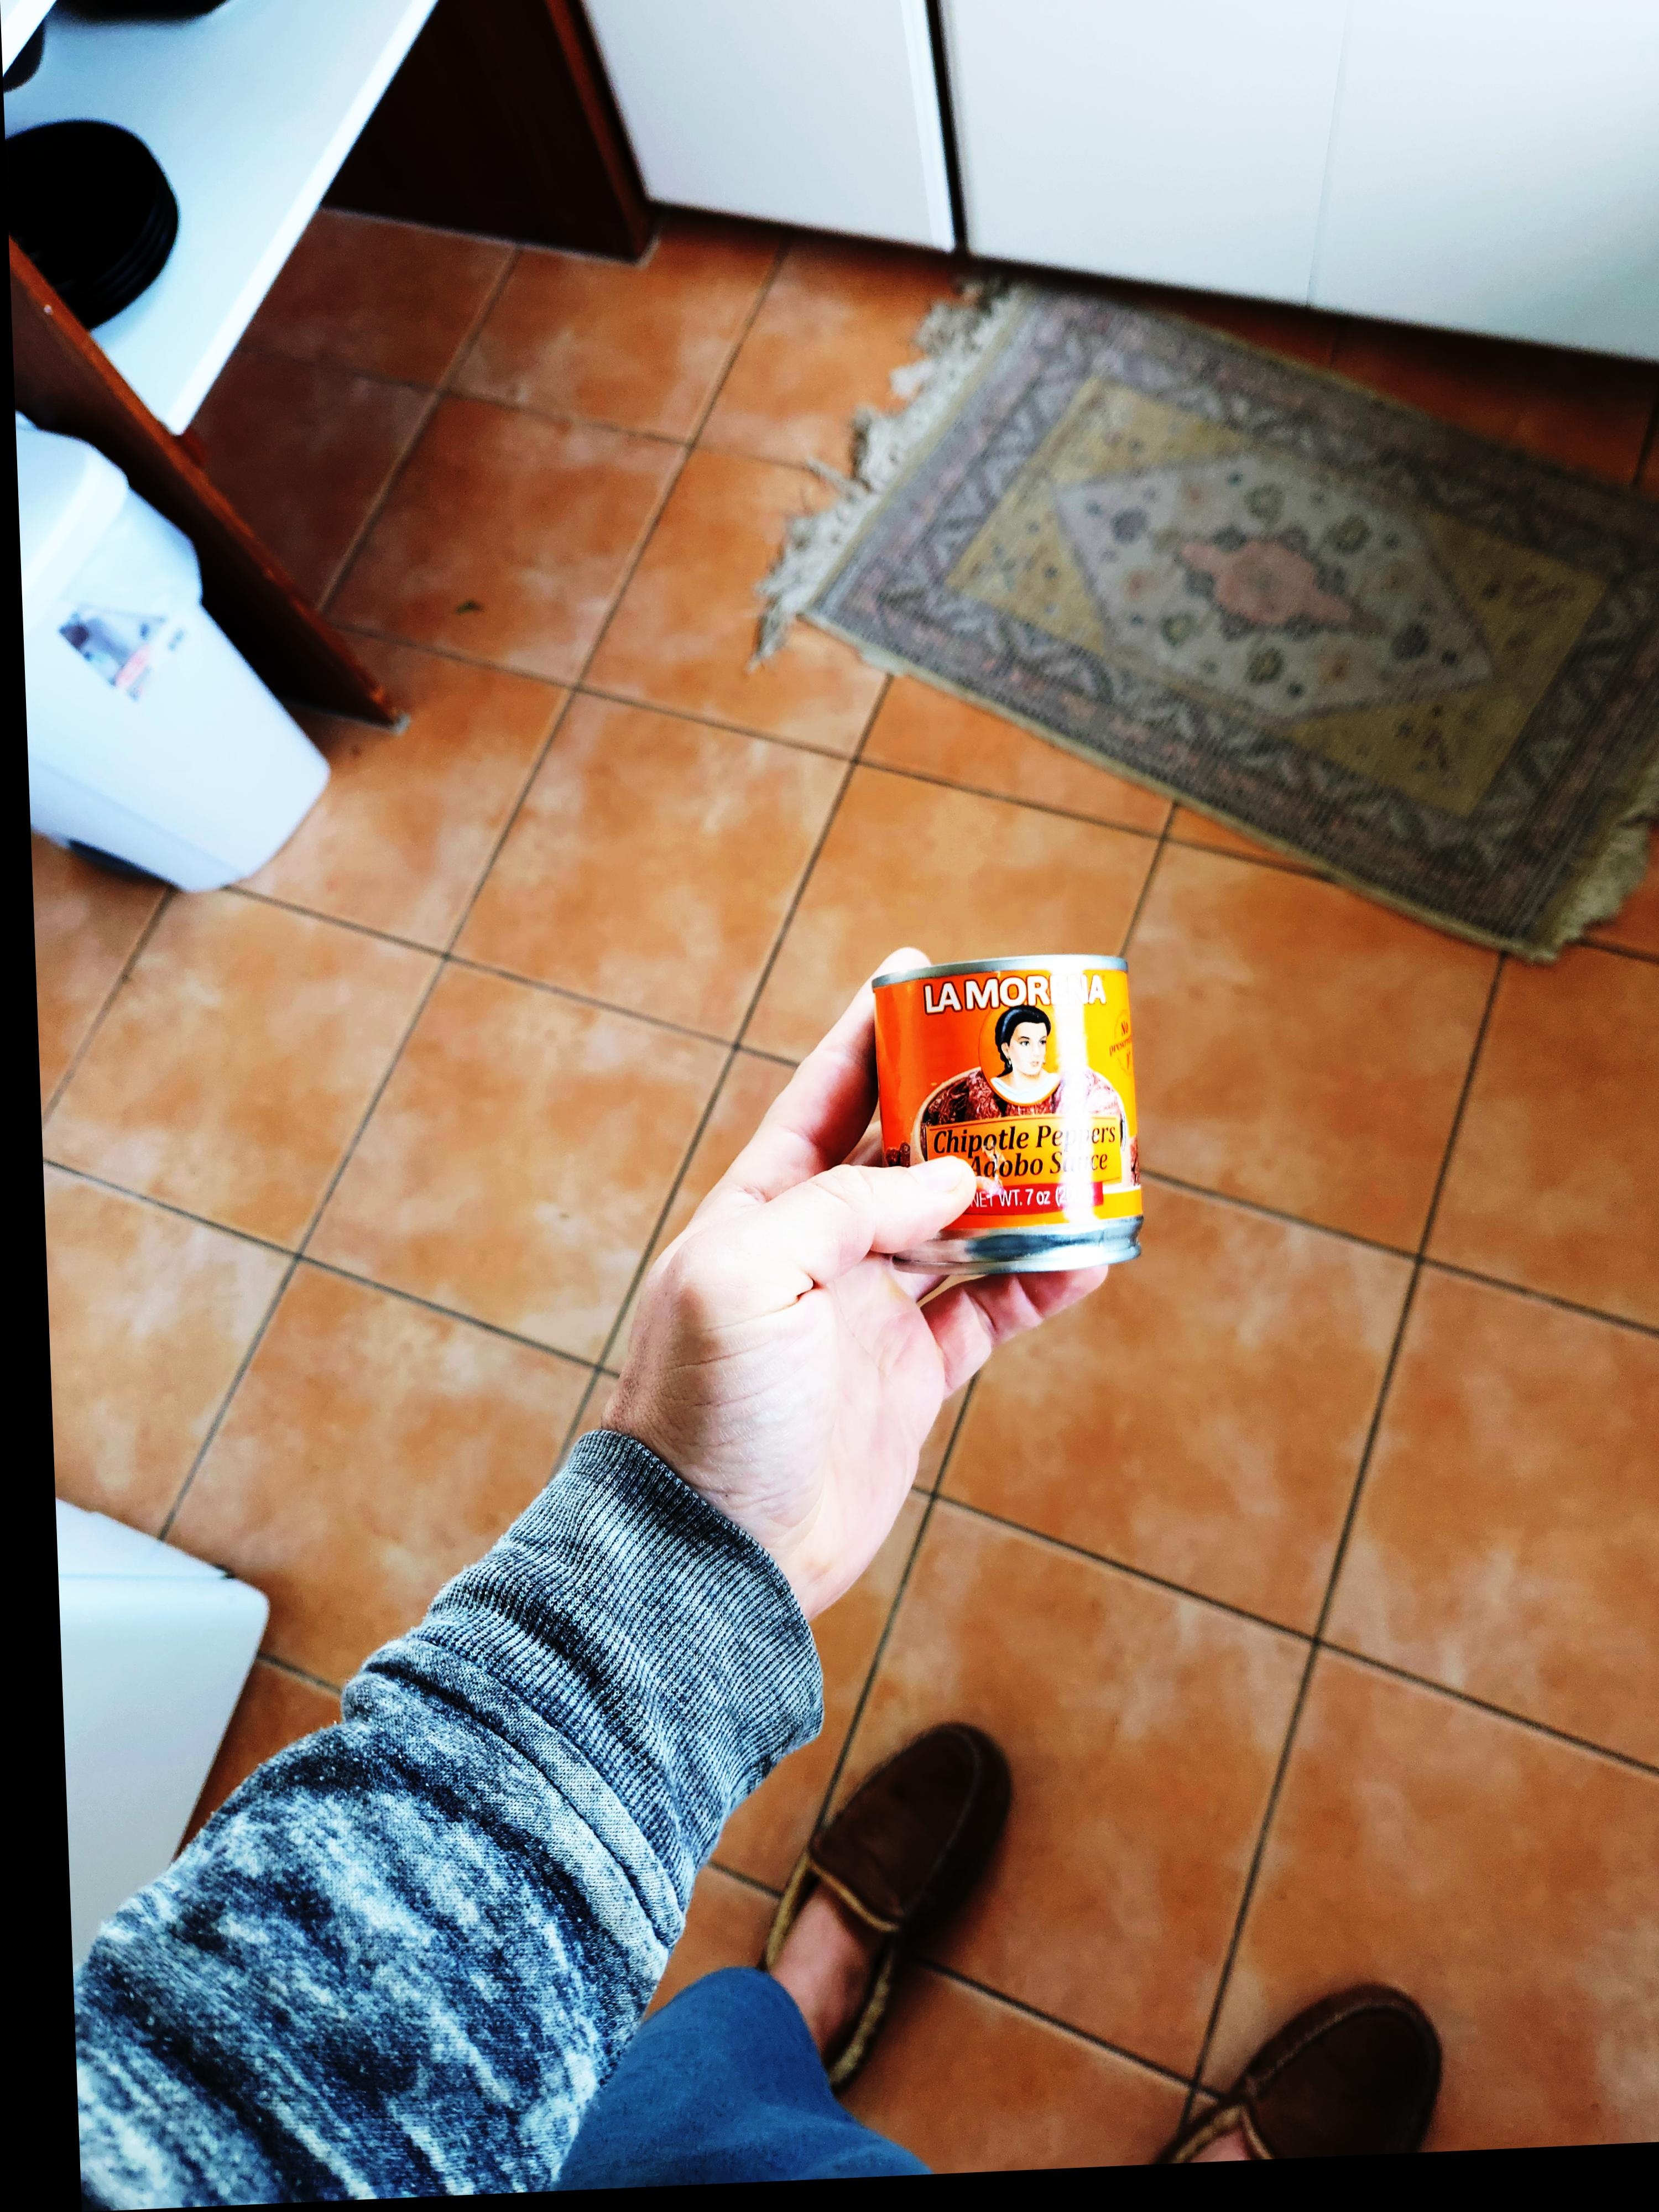beans: (648, 1284, 854, 1724)
